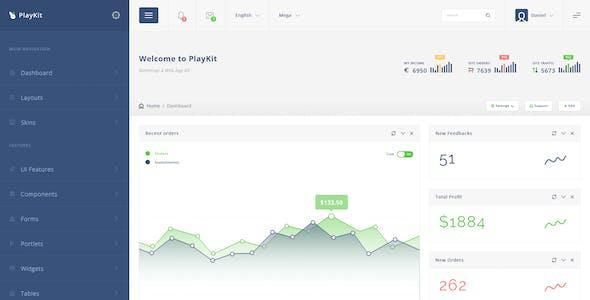button: (483, 101, 522, 112), (526, 101, 555, 113), (560, 101, 584, 113)
icon: (139, 9, 160, 24), (516, 9, 529, 23), (571, 11, 584, 23), (205, 12, 219, 23), (177, 10, 188, 23), (113, 11, 121, 22)
input: (441, 9, 498, 24)
switch: (398, 151, 414, 159)
